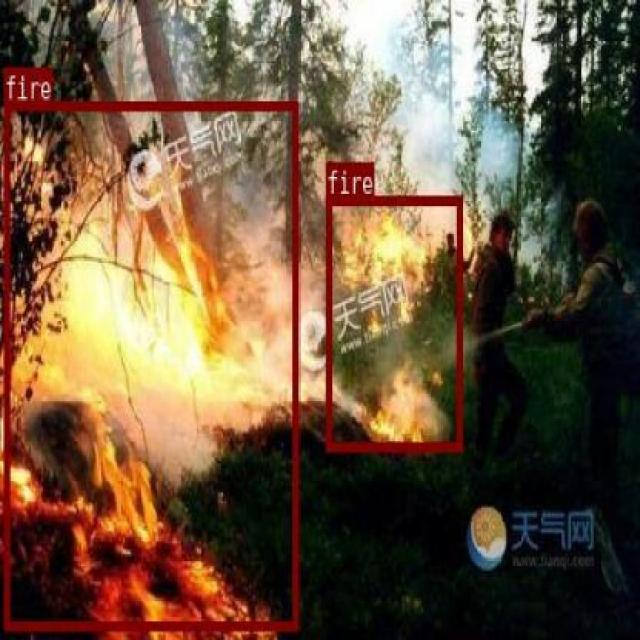Fire: (3, 100, 297, 629), (324, 194, 462, 450)
